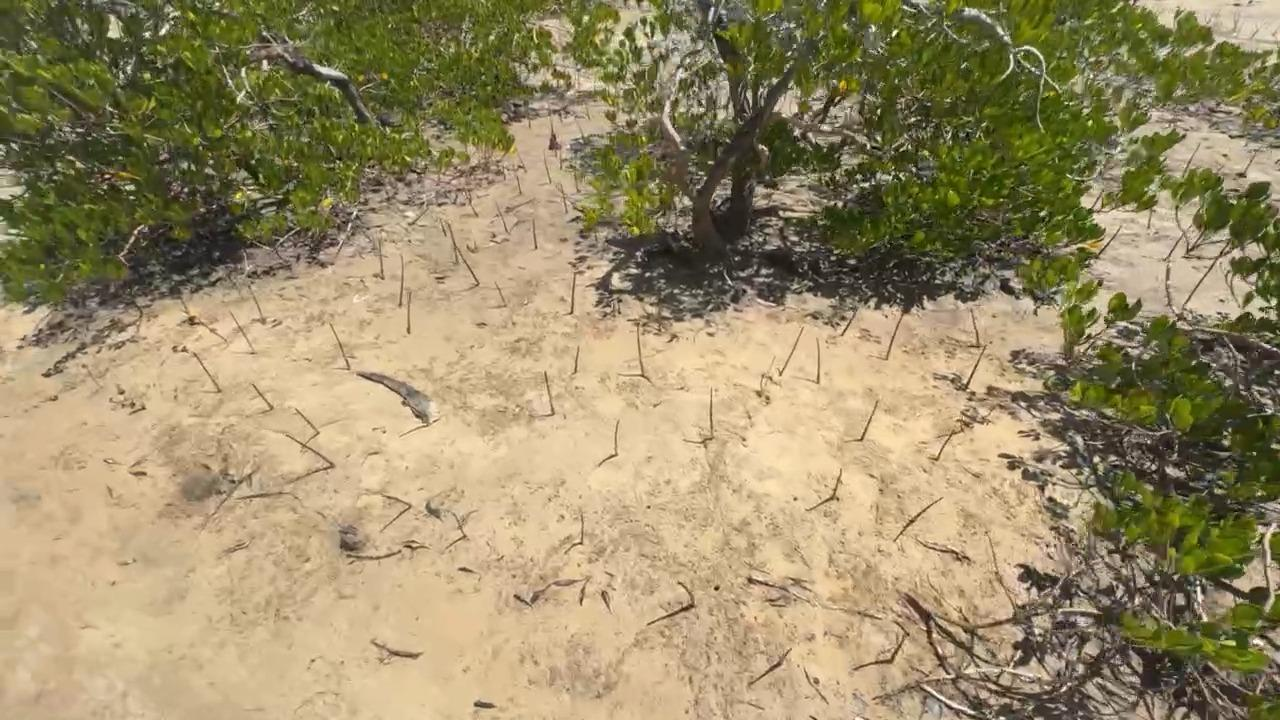Tree: (530, 574, 590, 606), (286, 434, 337, 469), (904, 496, 945, 530), (193, 351, 221, 392), (229, 310, 256, 351), (965, 344, 988, 389), (455, 244, 480, 285), (330, 322, 351, 370), (885, 311, 904, 360), (859, 399, 879, 443), (250, 382, 275, 410), (294, 407, 320, 433), (935, 429, 955, 462), (199, 319, 227, 341), (248, 284, 264, 320), (890, 630, 906, 664), (677, 579, 695, 607), (447, 222, 459, 264), (544, 371, 555, 415), (380, 493, 413, 507), (369, 638, 393, 657), (841, 309, 857, 336), (452, 512, 467, 538), (831, 468, 842, 500), (378, 235, 386, 279), (791, 326, 804, 353), (970, 308, 979, 346), (494, 280, 507, 306), (496, 203, 508, 231), (543, 149, 552, 184), (637, 322, 643, 371), (468, 191, 479, 217), (399, 252, 404, 307), (778, 648, 793, 666), (513, 593, 532, 607), (517, 151, 528, 174), (345, 553, 373, 562), (613, 419, 620, 455), (570, 272, 576, 314), (815, 338, 820, 384), (407, 290, 412, 334), (458, 565, 479, 575), (561, 184, 568, 214), (532, 219, 538, 250), (574, 345, 580, 374), (439, 216, 447, 236), (710, 386, 713, 435), (516, 174, 522, 194), (581, 512, 584, 544)
